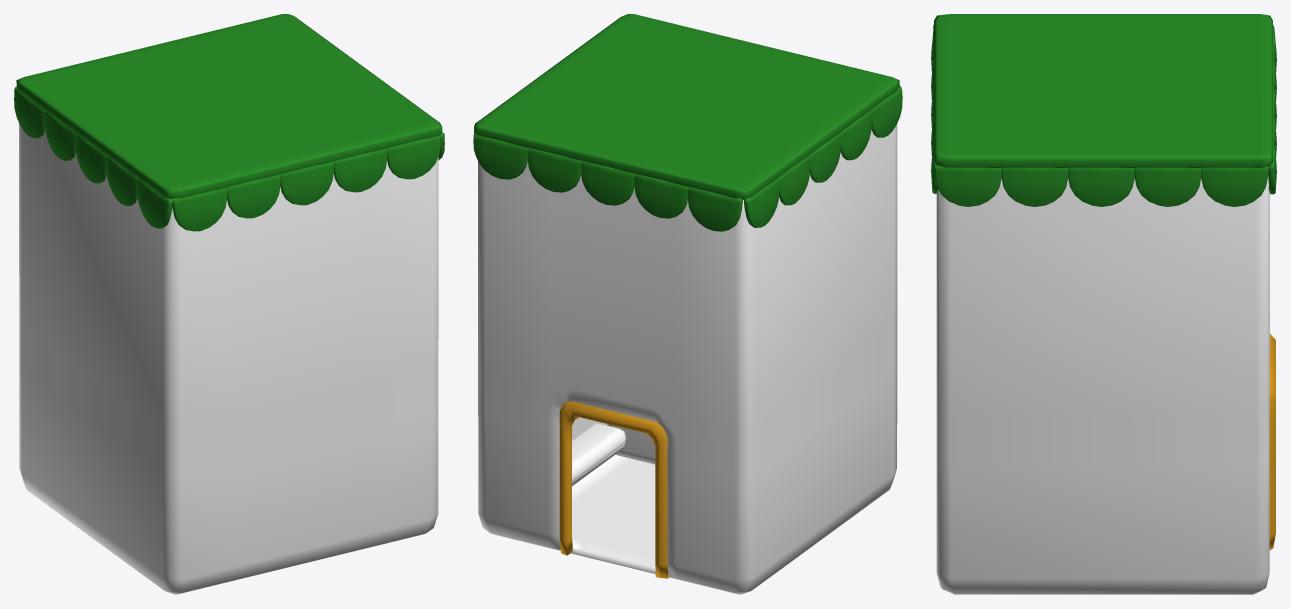
File: HouseTall.fbx
3 renders of one model, left to right at view 1: azimuth 30°, elevation 25°; view 2: azimuth 150°, elevation 25°; view 3: azimuth 270°, elevation 25°, orthographic. The views are drawn at different scales.
Visible parts, largest first — view 1: HouseTall1, HouseTall2; view 2: HouseTall1, HouseTall2, HouseTall7, HouseTall8; view 3: HouseTall1, HouseTall2.
Boxes of the visible parts, left/top/right/bottom form: HouseTall1: left=19, top=123, right=438, bottom=594; HouseTall2: left=14, top=14, right=444, bottom=231; HouseTall1: left=478, top=124, right=897, bottom=594; HouseTall2: left=473, top=14, right=902, bottom=578; HouseTall7: left=572, top=423, right=626, bottom=481; HouseTall8: left=607, top=424, right=655, bottom=457; HouseTall1: left=936, top=176, right=1269, bottom=594; HouseTall2: left=931, top=14, right=1276, bottom=549.
Size of the model in its own units: 2.2 by 3.1 by 2.18.
1 material, 1 textured.
